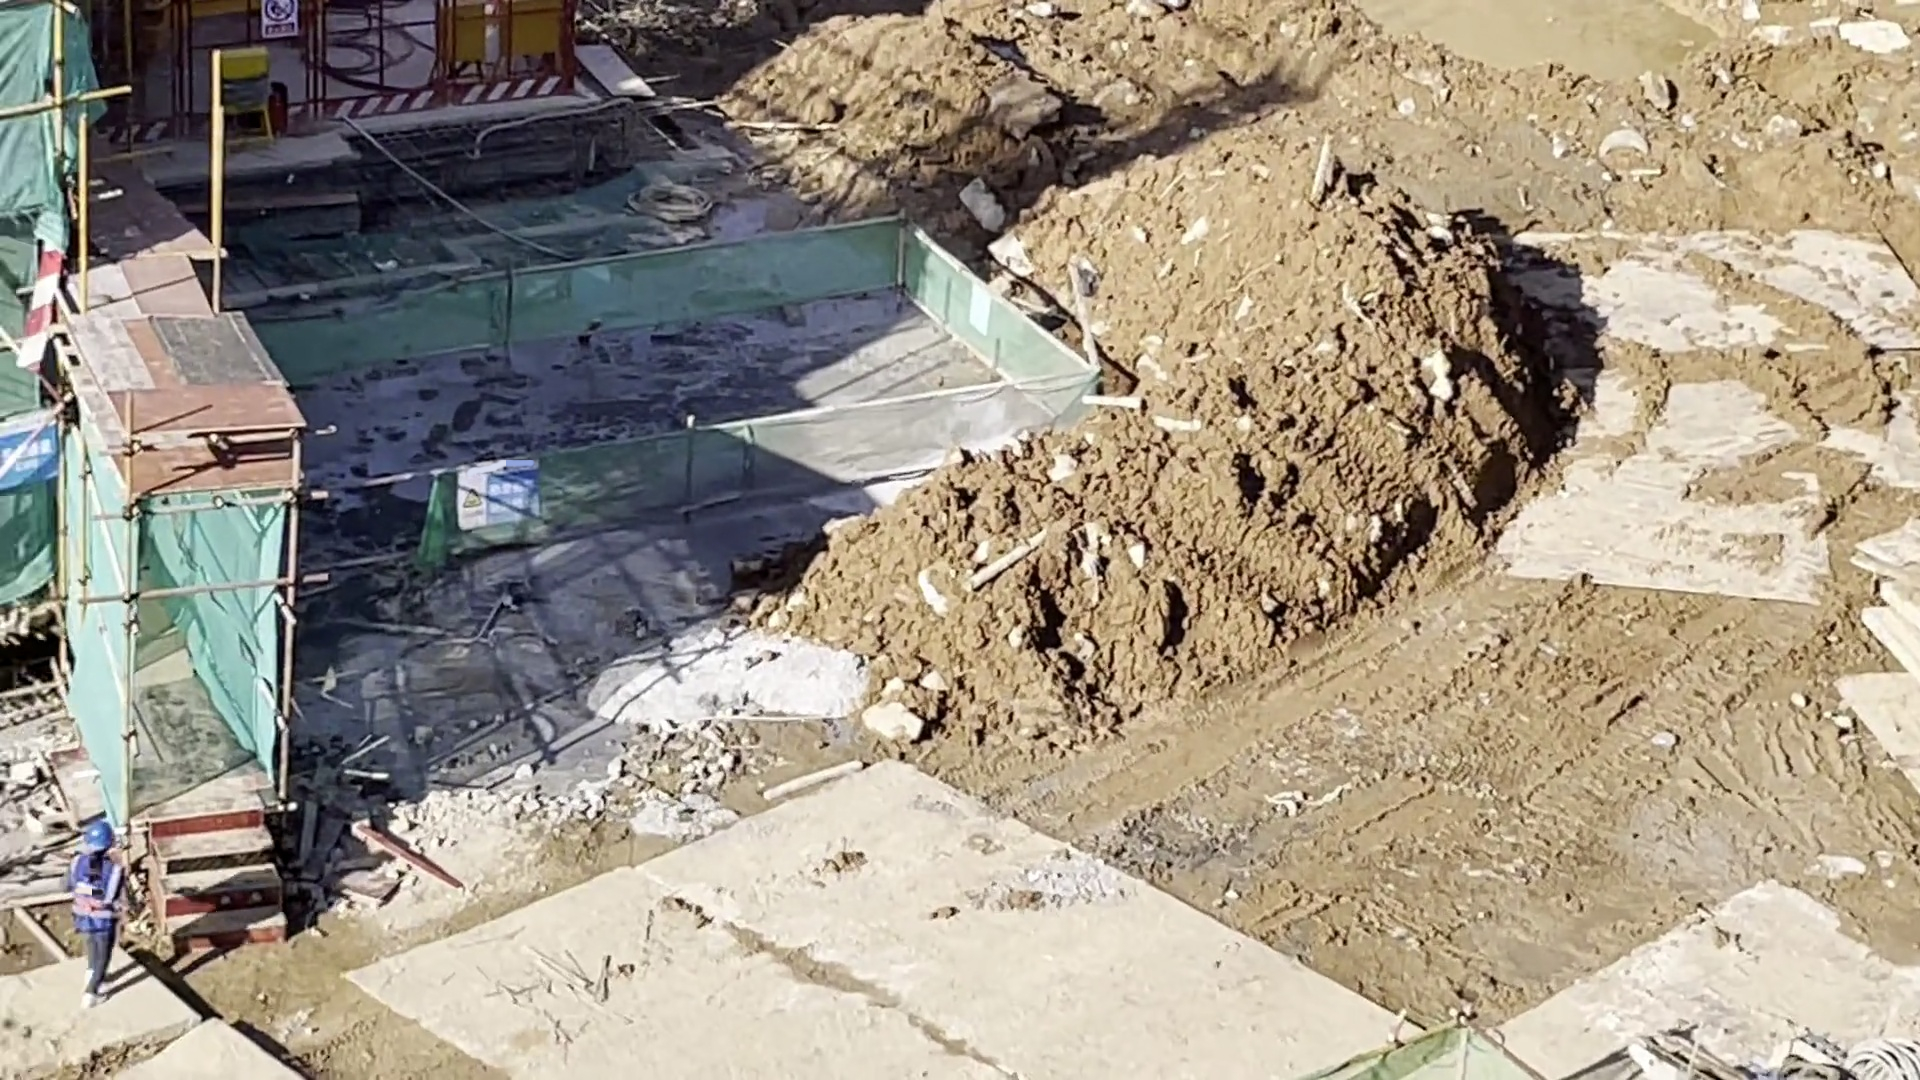ebox: (514, 1, 573, 63), (436, 1, 482, 68)
helmet: (80, 824, 115, 853)
person: (59, 822, 134, 1009)
slogan: (451, 476, 545, 544), (1, 437, 61, 480), (265, 4, 300, 40)
vest: (65, 865, 124, 937)
